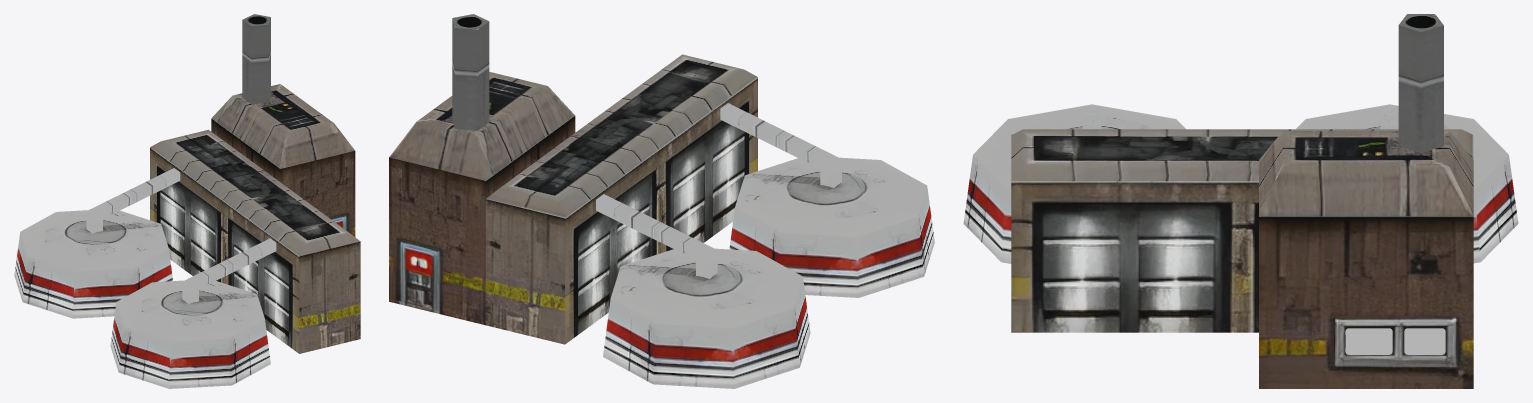
The model's file is purificationplant_hdtex.glb.
3 renders of one model, left to right at view 1: azimuth 30°, elevation 25°; view 2: azimuth 150°, elevation 25°; view 3: azimuth 270°, elevation 25°, orthographic. The views are drawn at different scales.
Parts seen in each view (by area): view 1: PurificationPlant; view 2: PurificationPlant; view 3: PurificationPlant, LitWin_PurificationPlant.
Boxes of the visible parts, bbox=[...] form: PurificationPlant: bbox=[14, 14, 360, 388]; PurificationPlant: bbox=[389, 14, 934, 388]; PurificationPlant: bbox=[963, 14, 1518, 388]; LitWin_PurificationPlant: bbox=[1345, 328, 1445, 354].
Size of the model in its own units: 15.04 by 10.63 by 16.07.
1 material, 1 textured.
